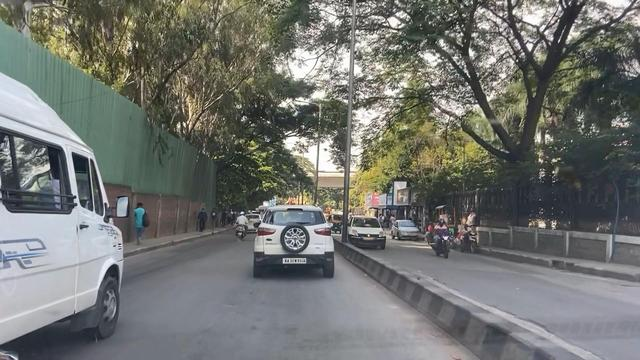HMV: (0, 69, 134, 355)
LMV: (249, 202, 338, 279)
